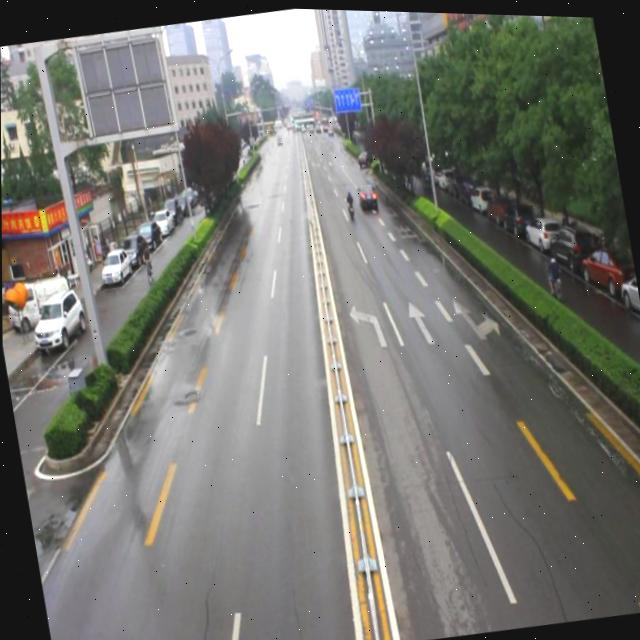car: (354, 179, 377, 208), (354, 146, 369, 167)
